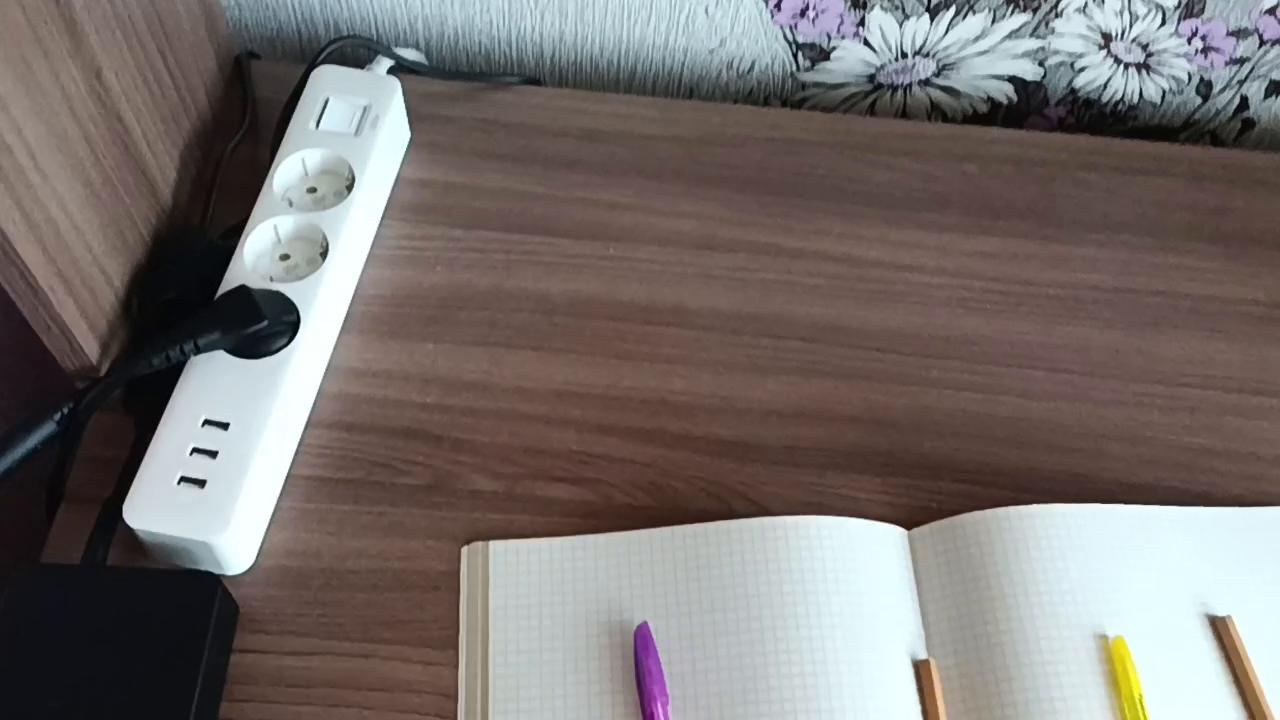pen: (621, 603, 675, 720), (1099, 622, 1156, 720)
pencil: (1206, 603, 1280, 720), (901, 652, 957, 720)
